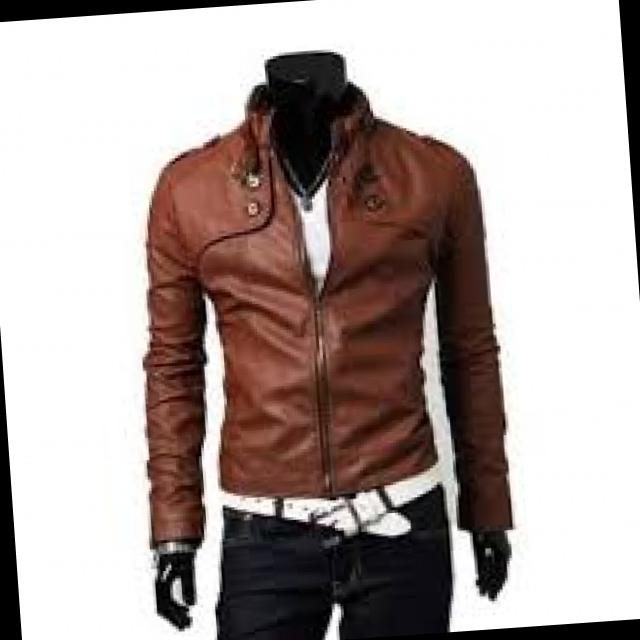Jacket: (74, 96, 570, 583)
